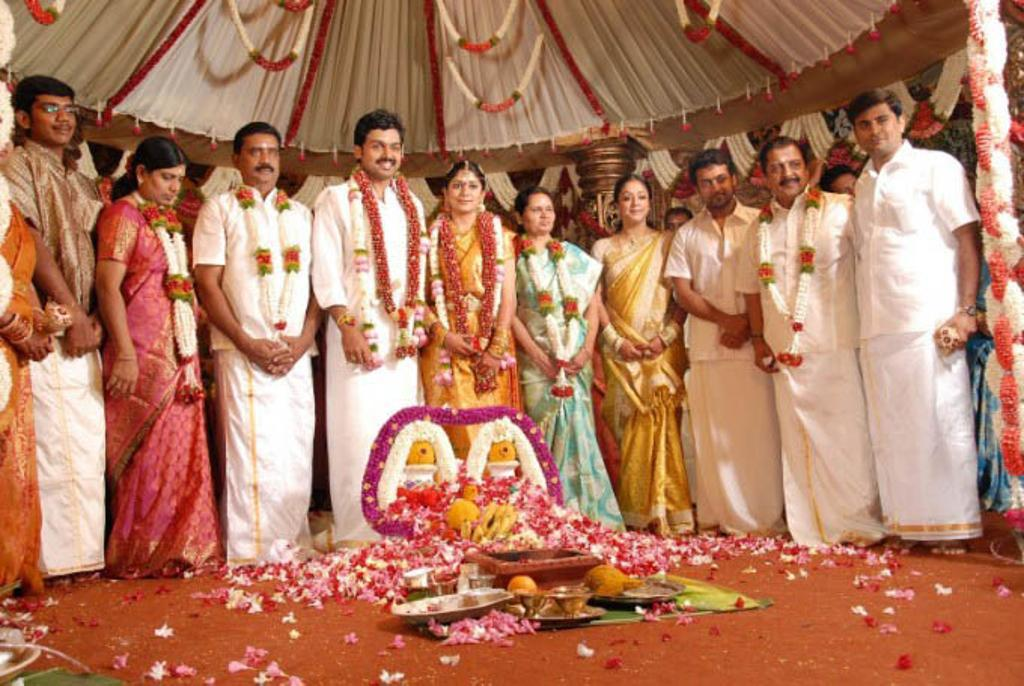face: (31, 97, 75, 144), (856, 111, 900, 151), (240, 141, 281, 182), (364, 134, 402, 176), (768, 154, 806, 195), (146, 169, 186, 204), (522, 194, 556, 232), (699, 171, 734, 207), (450, 178, 481, 212), (619, 187, 650, 221), (835, 179, 859, 204), (667, 218, 689, 243)
